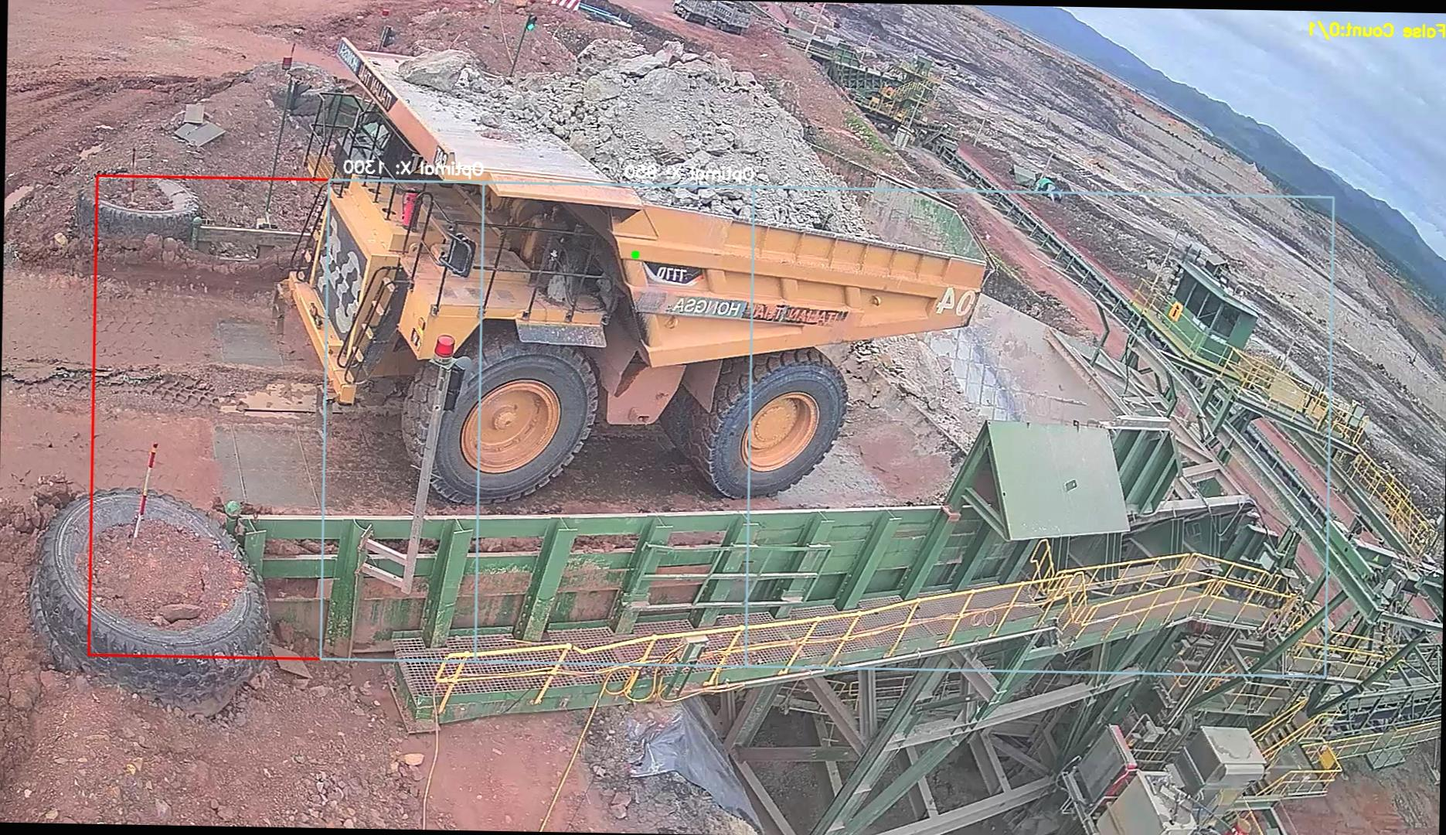company: (663, 290, 854, 328)
full_load: (539, 43, 828, 234)
mining_truck: (249, 22, 1002, 514)
tail_number: (929, 274, 980, 326)
truck_size: (636, 256, 707, 288)
